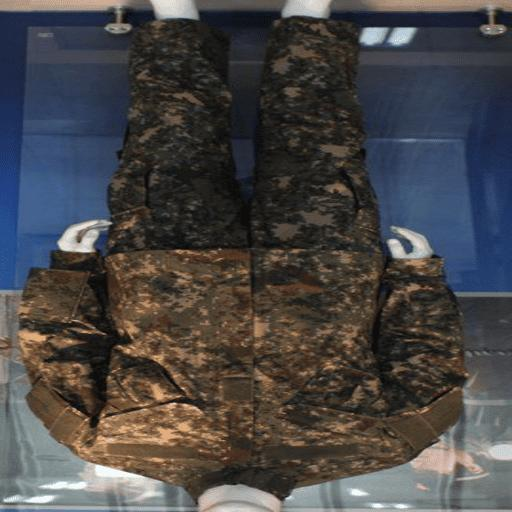korea army: (17, 9, 471, 508)
